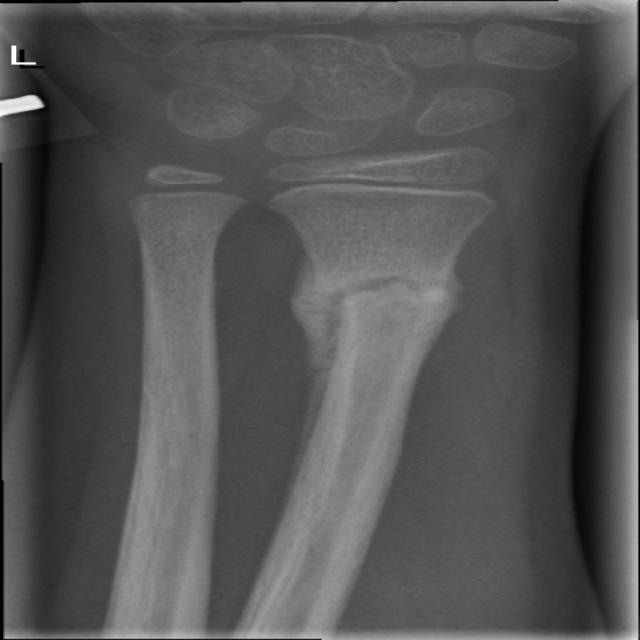radius fracture: (275, 248, 500, 402)
